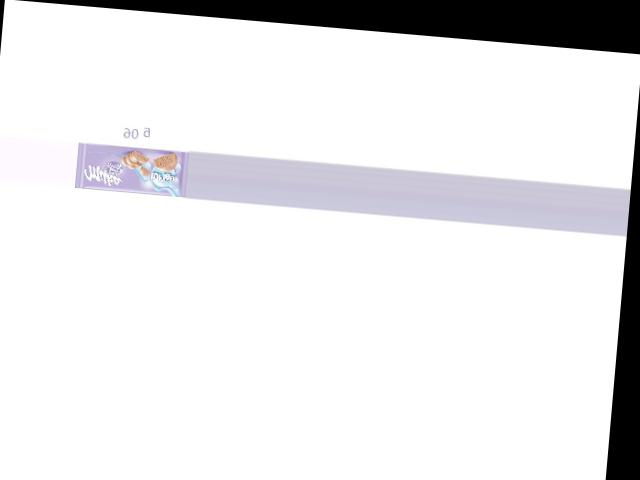chocolate: (76, 142, 190, 198)
